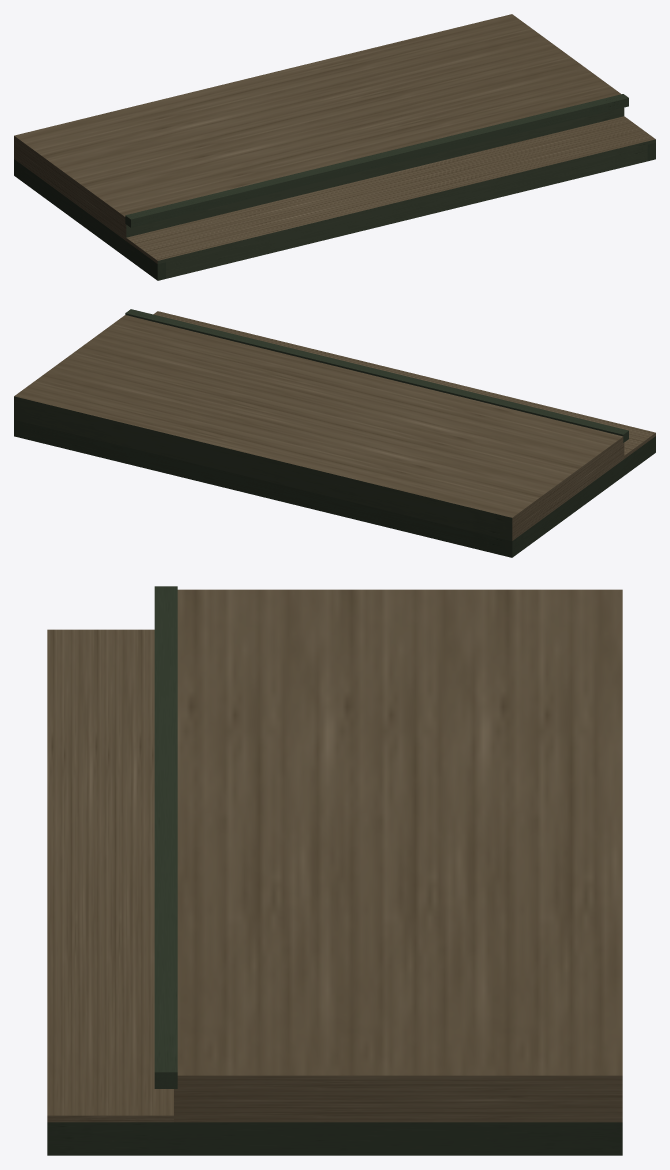
File: house_01_porch_deck.glb
The picture shows the model from 3 angles, top to bottom: view 1: azimuth 30°, elevation 25°; view 2: azimuth 150°, elevation 25°; view 3: azimuth 270°, elevation 25°; orthographic projection. The views are drawn at different scales.
Parts seen in each view (by area): view 1: outdoor_house_01_porch_deck; view 2: outdoor_house_01_porch_deck; view 3: outdoor_house_01_porch_deck.
Boxes of the visible parts, x1,y1,x2,y2 form: outdoor_house_01_porch_deck: [14, 14, 655, 280]; outdoor_house_01_porch_deck: [14, 309, 655, 557]; outdoor_house_01_porch_deck: [47, 586, 622, 1155].
Size of the model in its own units: 3 by 0.24 by 1.5.
Materials: 1 (1 with a texture image).
